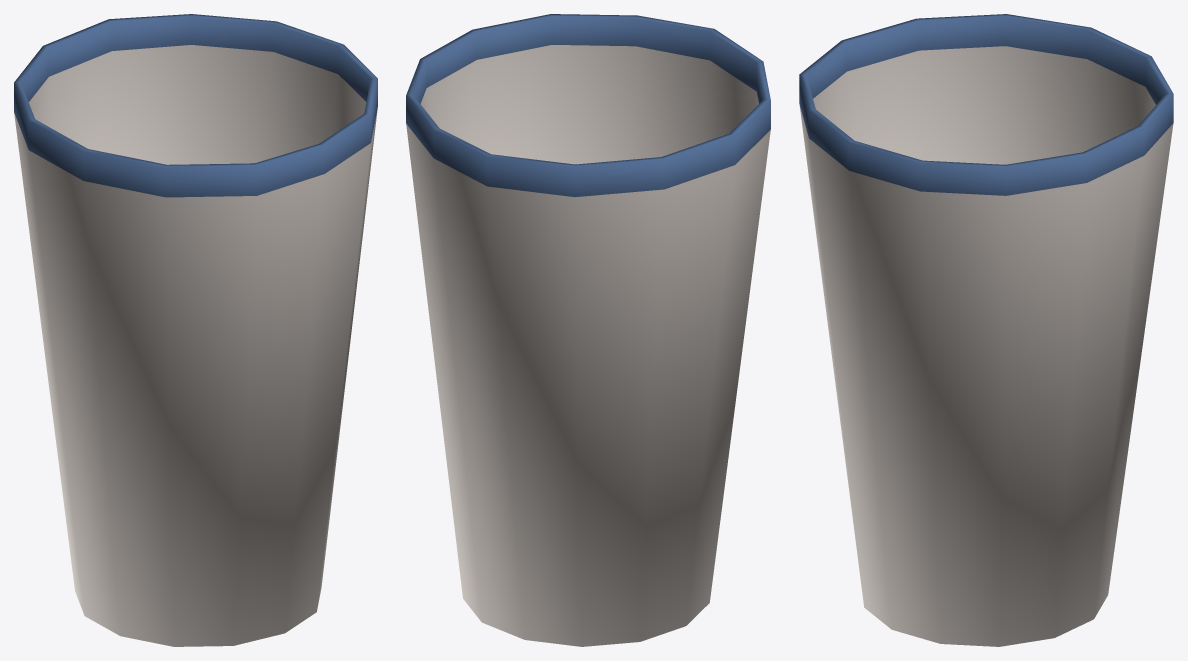
Rendered from Copo 1.fbx.
3 views of the same model, side by side, from view 1: azimuth 30°, elevation 25°; view 2: azimuth 150°, elevation 25°; view 3: azimuth 270°, elevation 25° (orthographic).
Visible parts, largest first — view 1: Copo; view 2: Copo; view 3: Copo.
Part boxes in pixels (bbox=[...]): Copo: bbox=[14, 14, 377, 646]; Copo: bbox=[406, 14, 770, 646]; Copo: bbox=[799, 14, 1173, 646].
Bounding box in the file's own units: 14.19 × 21.78 × 14.66.
